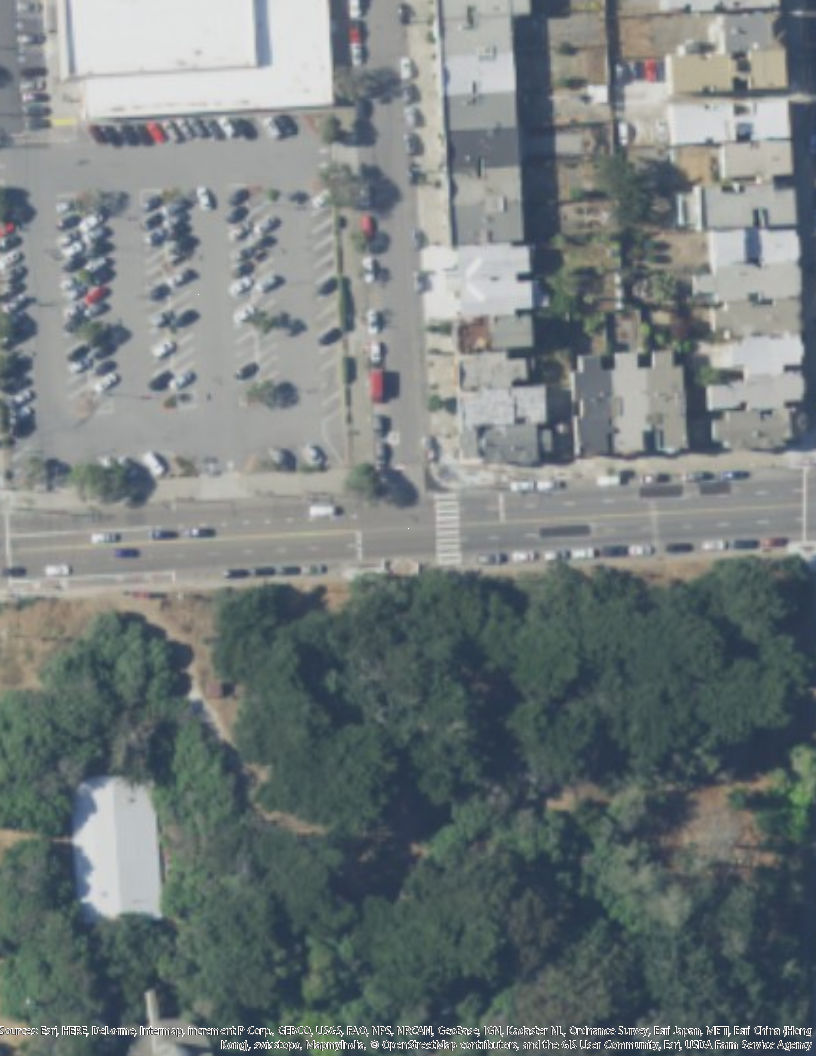zebracross: (433, 492, 463, 567)
